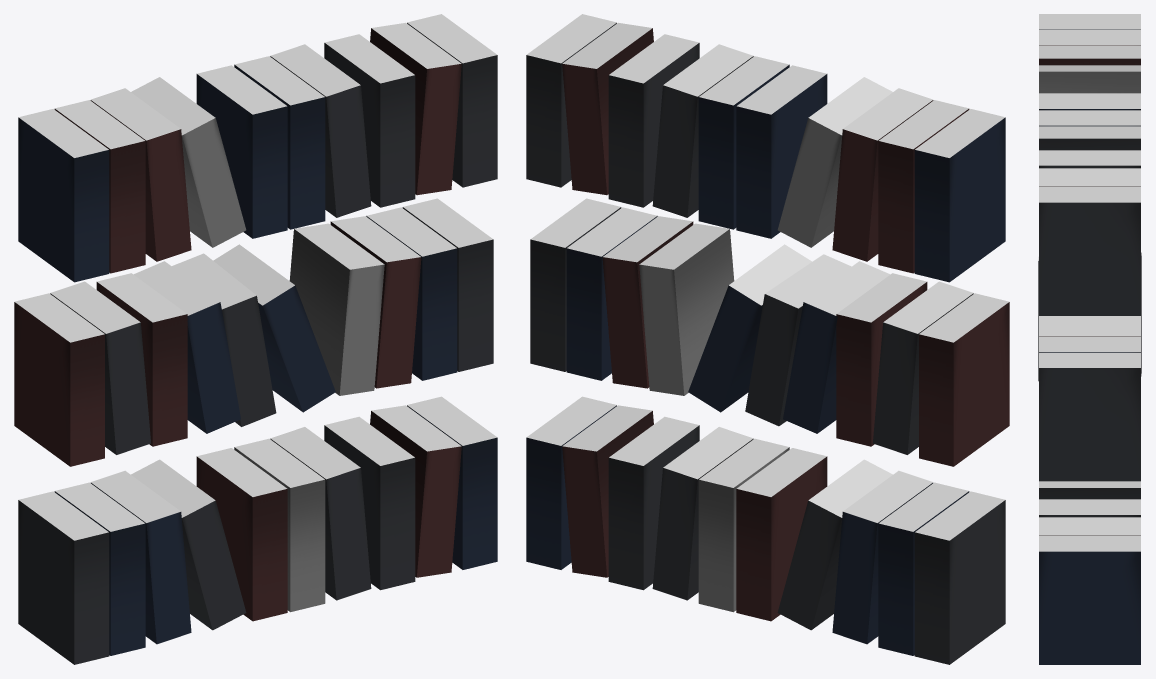
Rendered from Books0.FBX.
The picture shows the model from 3 angles, left to right: view 1: azimuth 30°, elevation 25°; view 2: azimuth 150°, elevation 25°; view 3: azimuth 270°, elevation 25°; orthographic projection. The views are drawn at different scales.
Parts seen in each view (by area): view 1: Books0; view 2: Books0; view 3: Books0.
Part boxes in pixels (left/top/right/bottom): Books0: left=14, top=14, right=497, bottom=664; Books0: left=526, top=14, right=1009, bottom=664; Books0: left=1038, top=14, right=1141, bottom=664.
Bounding box in the file's own units: 45.42 × 52.07 × 10.42.
1 material, 1 textured.
